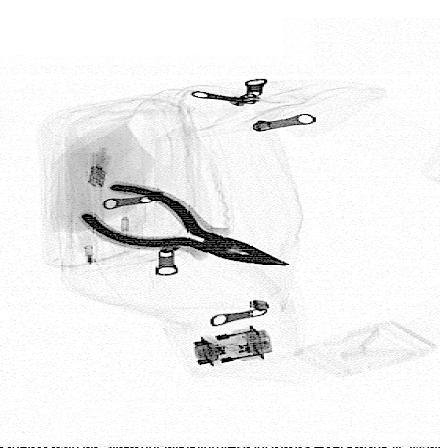Pliers: (77, 182, 292, 267)
